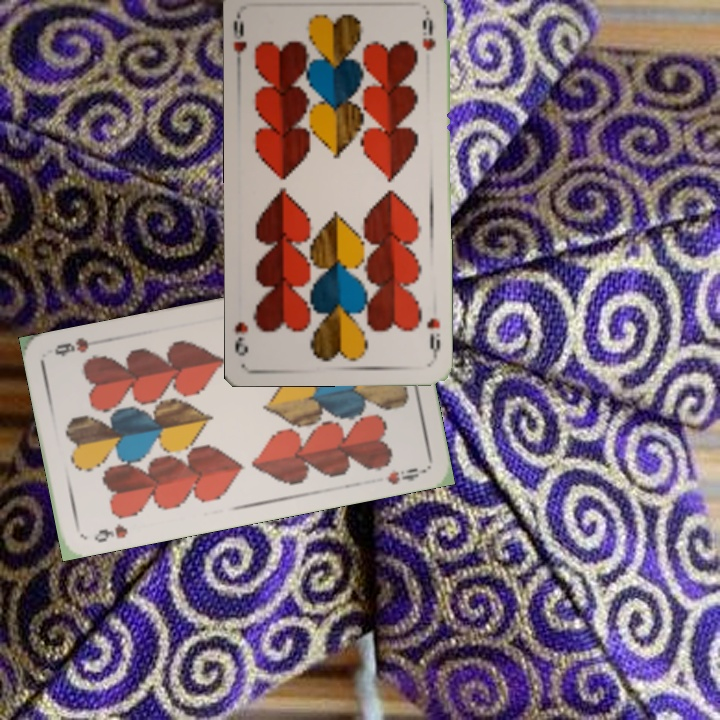H9: (230, 11, 249, 70), (90, 519, 130, 546), (423, 314, 443, 359)
